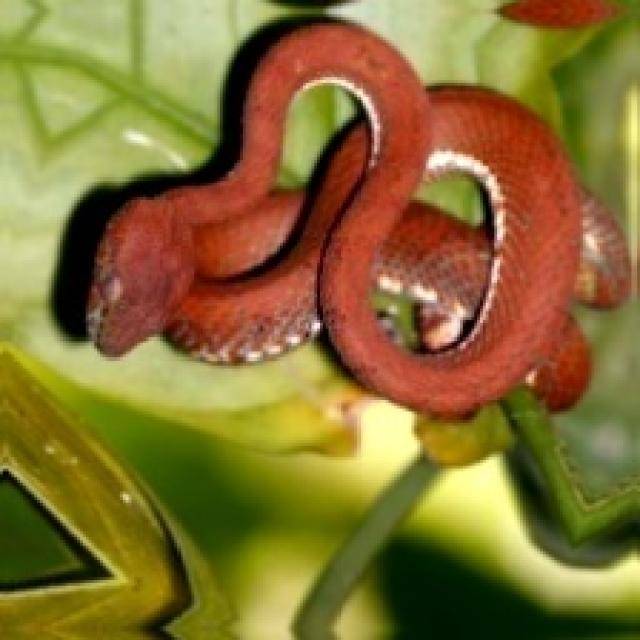philippine pitviper: (54, 17, 626, 414)
